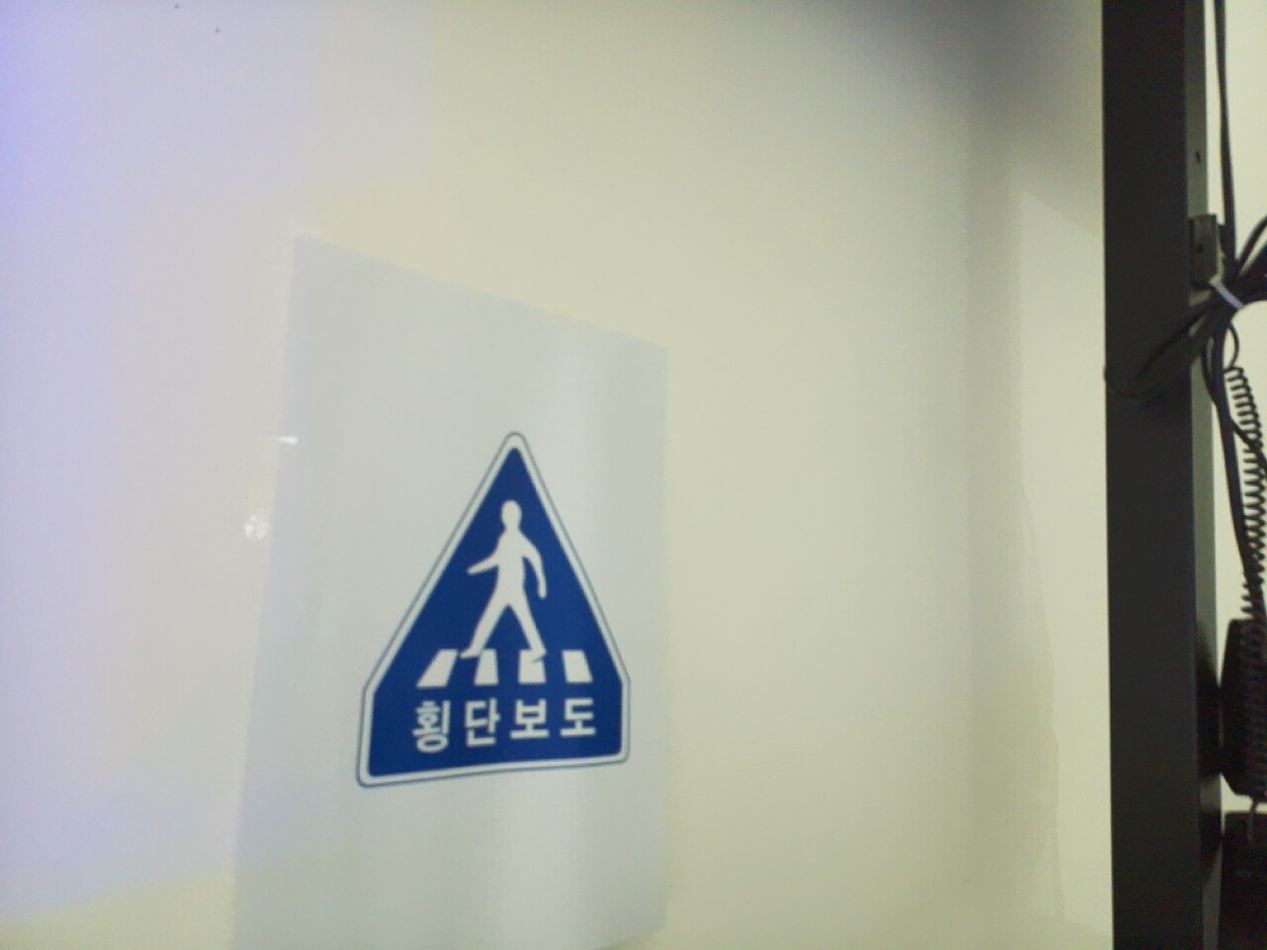crosswalk: (358, 437, 632, 787)
